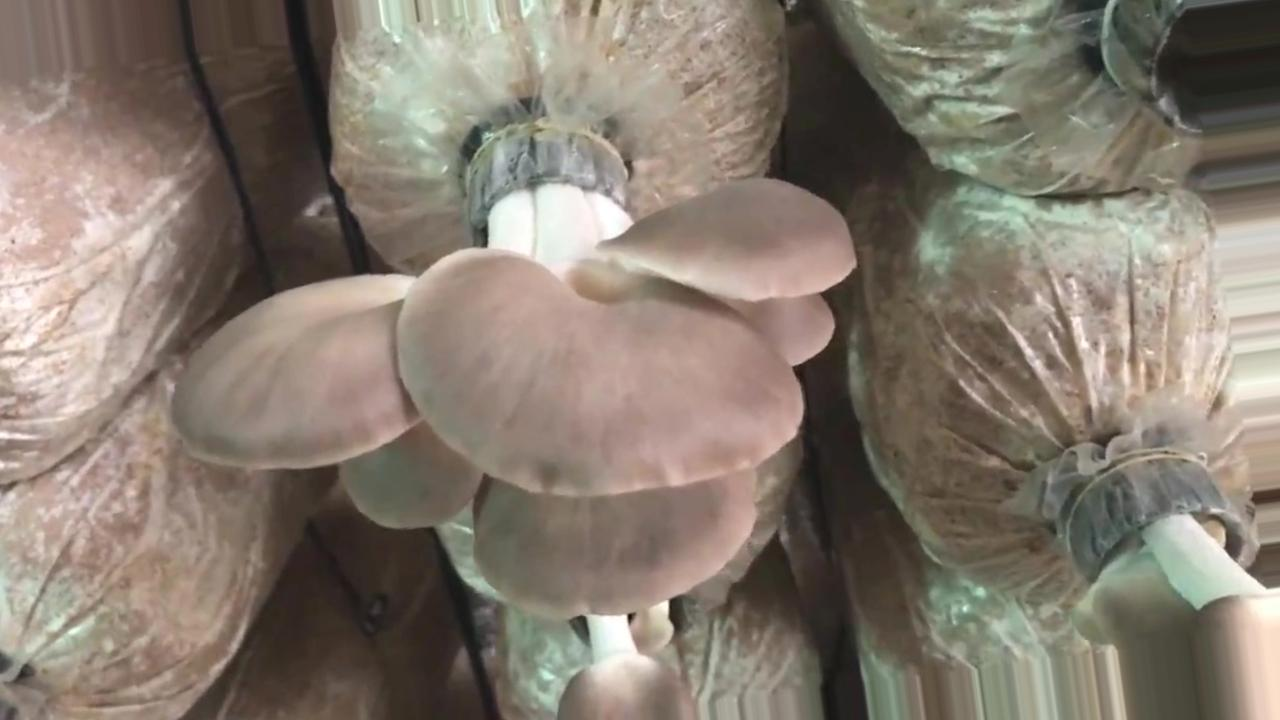nam: (171, 128, 859, 621), (1070, 454, 1279, 717), (558, 600, 702, 720)
